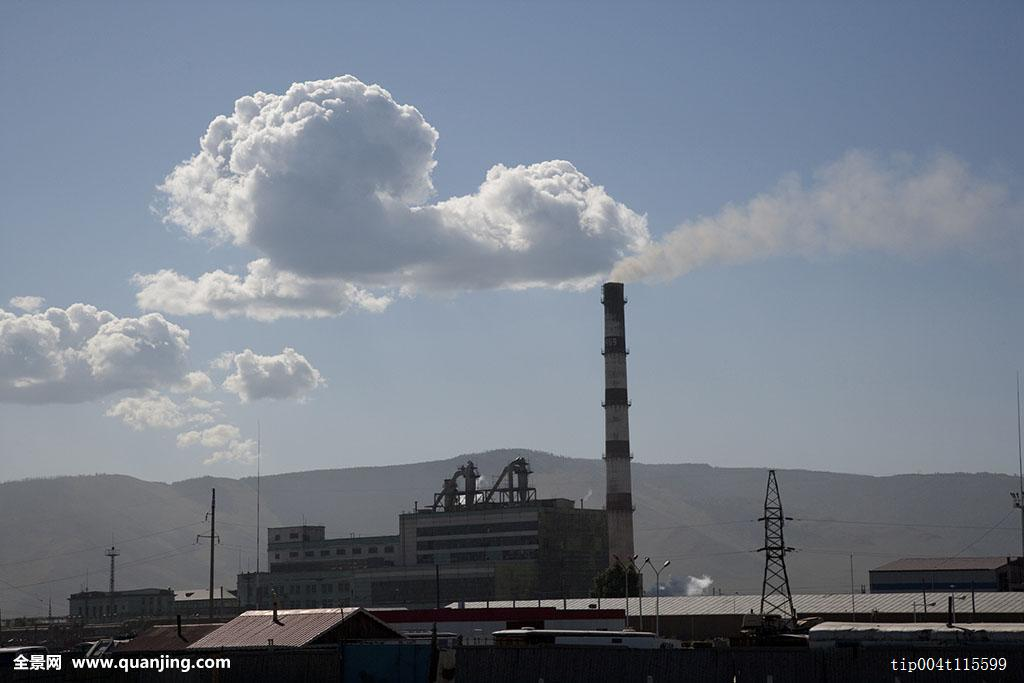dust: (583, 184, 871, 329)
